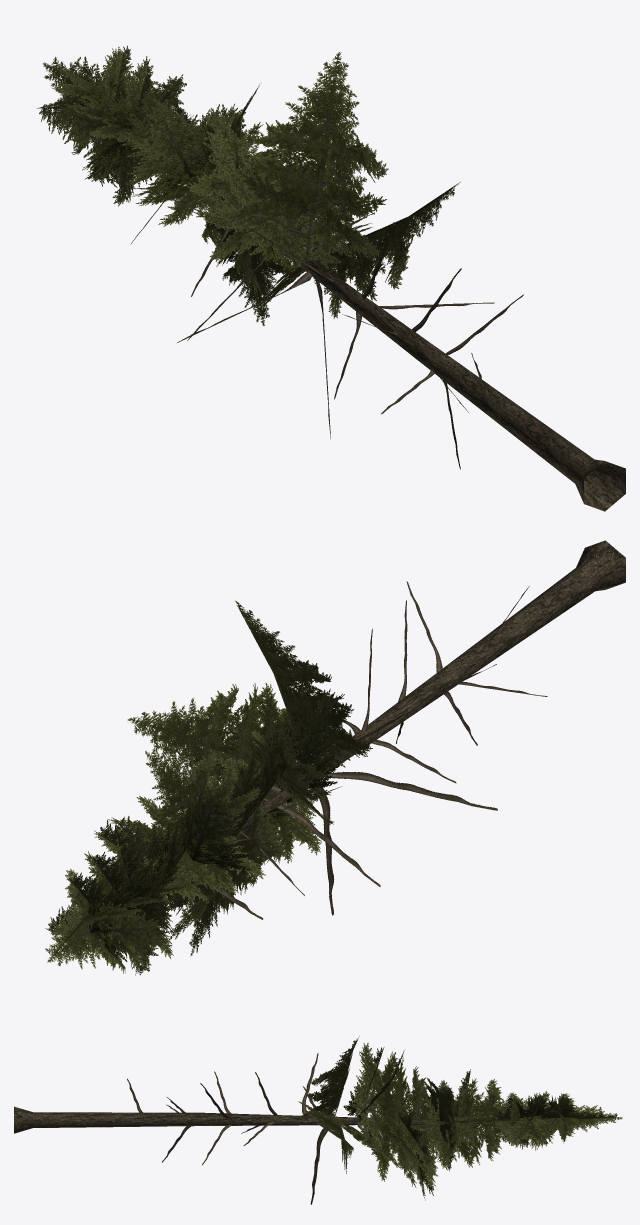
File: MEP_Con_01_g.fbx
3 renders of one model, top to bottom at view 1: azimuth 30°, elevation 25°; view 2: azimuth 150°, elevation 25°; view 3: azimuth 270°, elevation 25°, orthographic. The views are drawn at different scales.
Parts seen in each view (by area): view 1: MEP_Con_01_g, MEP_ConTrunk_01_g; view 2: MEP_Con_01_g, MEP_ConTrunk_01_g; view 3: MEP_Con_01_g, MEP_ConTrunk_01_g.
Part boxes in pixels (x1=…): MEP_Con_01_g: x1=36, y1=45, x2=523, y2=469; MEP_ConTrunk_01_g: x1=178, y1=166, x2=625, y2=511; MEP_Con_01_g: x1=45, y1=581, x2=547, y2=975; MEP_ConTrunk_01_g: x1=176, y1=540, x2=625, y2=873; MEP_Con_01_g: x1=127, y1=1036, x2=622, y2=1204; MEP_ConTrunk_01_g: x1=14, y1=1106, x2=496, y2=1133.
Bounding box in the file's own units: 9.31 × 9.14 × 26.75.
